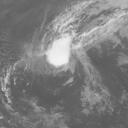cyclone: (44, 37, 72, 68)
